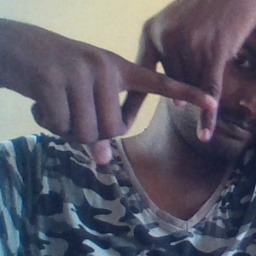H: (105, 19, 232, 148)
